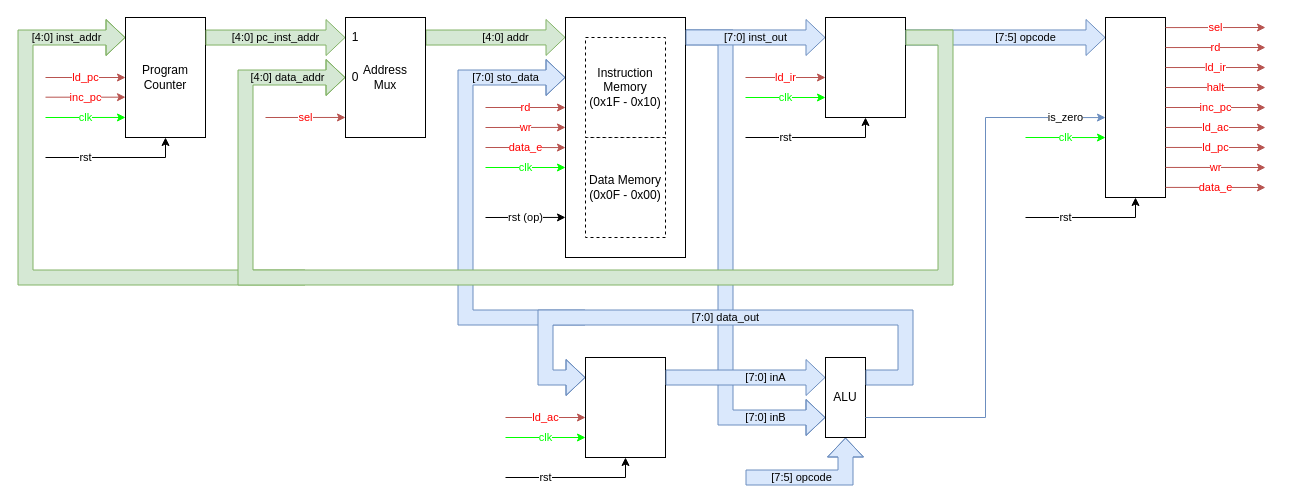
Some shapes in this 1291 by 503 pixel diagram are drawn without their labels. The shapes that lost their labels are listed below. From the top down, each one's centre as x and y in pixels, then its label:
At (865,67): "Instruction Register".
At (1135,107): "Controller".
At (625,407): "Accumulator Register".
